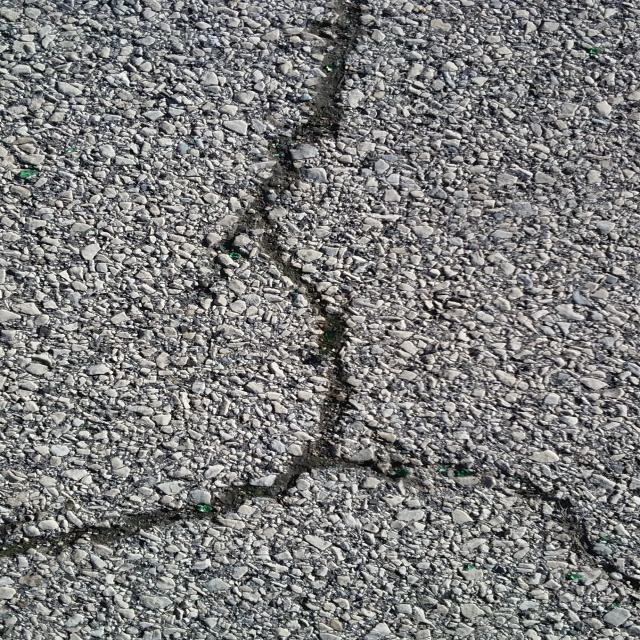Crack: (0, 0, 640, 594)
